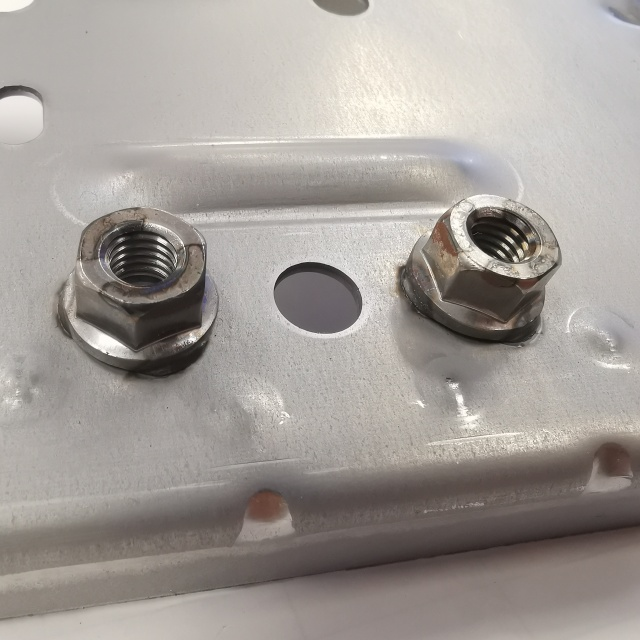dog: (52, 204, 224, 379), (396, 190, 568, 346)
